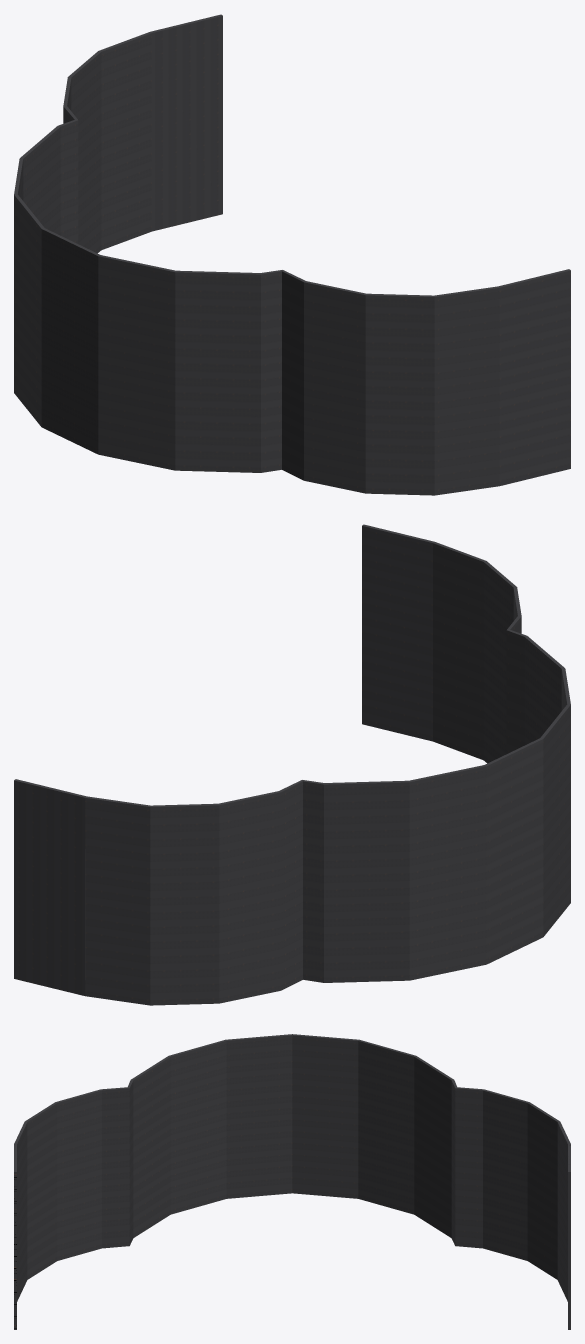
Rendered from Shutters.fbx.
3 renders of one model, top to bottom at view 1: azimuth 30°, elevation 25°; view 2: azimuth 150°, elevation 25°; view 3: azimuth 270°, elevation 25°, orthographic. The views are drawn at different scales.
Parts seen in each view (by area): view 1: Cylinder.021; view 2: Cylinder.021; view 3: Cylinder.021.
Boxes of the visible parts, box(x1,y1,x2,y2) form: Cylinder.021: box(14, 14, 570, 495); Cylinder.021: box(14, 524, 570, 1005); Cylinder.021: box(14, 1034, 570, 1329).
Bounding box in the file's own units: 10908 × 5834 × 18638.
